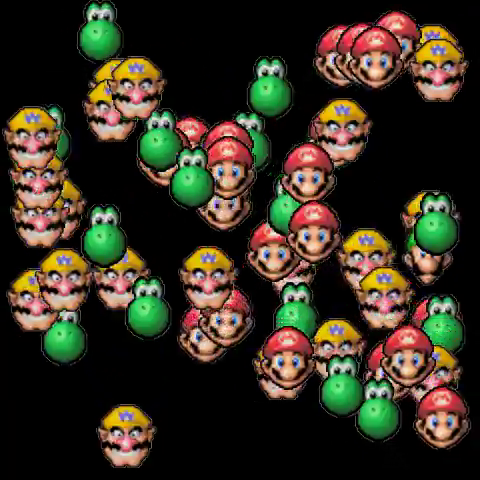luigi: (401, 228, 456, 289)
